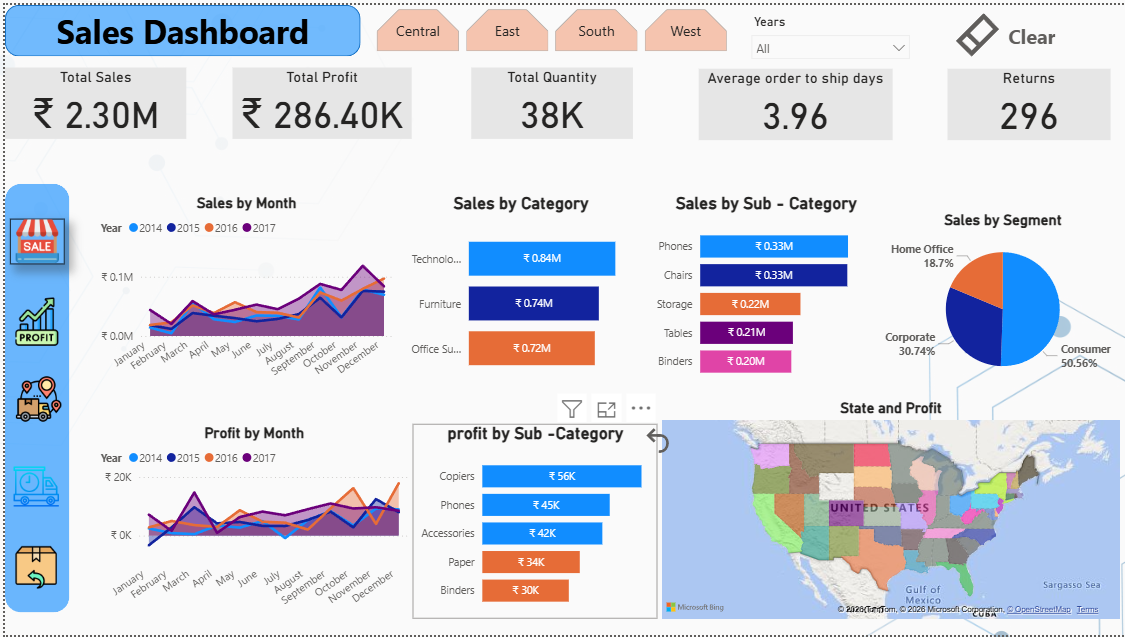

Layout of this report page (visuals, bound fields, positions):
{"tool":"powerbi","page":{"name":"Sales Dashboard","canvas":[1280,720],"ordinal":0},"visuals":[{"type":"pieChart","title":"Sales by Segment","fields":{"Category":["Orders.Segment"],"Y":["Sum(Orders.Sales)"]},"box":[1003.8,235,272.5,205],"z":0},{"type":"barChart","title":"Sales by Category","fields":{"Category":["Orders.Category"],"Series":["Orders.Category"],"Y":["Sum(Orders.Sales)"]},"box":[443.8,216.2,291.2,223.8],"z":1000},{"type":"barChart","title":"Sales by Sub - Category","fields":{"Category":["Orders.Sub-Category"],"Series":["Orders.Sub-Category"],"Y":["Sum(Orders.Sales)"]},"box":[735,216.2,268.8,223.8],"z":2000},{"type":"barChart","title":"profit by Sub -Category","fields":{"Category":["Orders.Sub-Category"],"Series":["Orders.Category"],"Y":["Sum(Orders.Profit)"]},"box":[465,478.8,281.2,222.5],"z":3000},{"type":"areaChart","title":"Sales by Month","fields":{"Category":["Orders.Order Date.Variation.Date Hierarchy.Month"],"Series":["Orders.Order Date.Variation.Date Hierarchy.Year"],"Y":["Sum(Orders.Sales)"]},"box":[103.8,216.2,343.8,223.8],"z":4000},{"type":"areaChart","title":"Profit by Month","fields":{"Category":["Orders.Order Date.Variation.Date Hierarchy.Month"],"Series":["Orders.Order Date.Variation.Date Hierarchy.Year"],"Y":["Sum(Orders.Profit)"]},"box":[103.8,478.8,361.2,222.5],"z":5000},{"type":"filledMap","fields":{"Category":["Orders.State"],"Series":["Orders.Profit"]},"box":[746.2,450,533.8,257.5],"z":6000},{"type":"card","title":"Total Sales","fields":{"Values":["Sum(Orders.Sales)"]},"box":[0,71.2,207.5,81.2],"z":7000},{"type":"card","title":"Total Profit","fields":{"Values":["Sum(Orders.Profit)"]},"box":[260,71.2,205,81.2],"z":8000},{"type":"card","title":"Total Quantity","fields":{"Values":["Sum(Orders.Quantity)"]},"box":[532.5,71.2,185,81.2],"z":9000},{"type":"card","title":"Returns","fields":{"Values":["CountNonNull(Return_data.Order ID)"]},"box":[1077.5,72.5,186.2,81.2],"z":10000},{"type":"card","title":"Average order to ship days","fields":{"Values":["Avg(Orders.Order to shipment time )"]},"box":[792.5,72.5,221.2,81.2],"z":11000},{"type":"advancedSlicerVisual","fields":{"Values":["Orders.Region"]},"box":[420,0,410,58.8],"z":12000},{"type":"slicer","fields":{"Values":["Orders.Order Date.Variation.Date Hierarchy.Year"]},"box":[842.5,5,201.2,57.5],"z":13000},{"type":"shape","box":[0,0,406.2,58.8],"z":14000},{"type":"actionButton","box":[1082.5,5,181.2,57.5],"z":15000},{"type":"shape","box":[0,203.8,73.8,490],"z":17000,"group":"g1"},{"type":"actionButton","box":[726.7,478.3,39.3,38.1],"z":18000},{"type":"image","box":[6.2,243.6,62.5,51.9],"z":19000,"group":"g1"},{"type":"image","box":[7.5,334.1,58.8,55.5],"z":20000,"group":"g1"},{"type":"image","box":[2.5,423.5,71.2,51.9],"z":21000,"group":"g1"},{"type":"image","box":[6.2,523.6,60,51.9],"z":22000,"group":"g1"},{"type":"image","box":[10,616.6,51.2,51.9],"z":23000,"group":"g1"},{"type":"group","id":"g1","title":"Group 1","box":[0,203.8,73.8,490],"z":23001}]}

Visuals, with their boxes in screenshot pixels (x1, y1, x2, y2), scaled from the page's 1280x720 canvas onto the 1125x637 screenshot:
"Sales by Segment" pieChart: <bbox>882, 208, 1122, 389</bbox>
"Sales by Category" barChart: <bbox>390, 191, 646, 389</bbox>
"Sales by Sub - Category" barChart: <bbox>646, 191, 882, 389</bbox>
"profit by Sub -Category" barChart: <bbox>409, 424, 656, 620</bbox>
"Sales by Month" areaChart: <bbox>91, 191, 393, 389</bbox>
"Profit by Month" areaChart: <bbox>91, 424, 409, 620</bbox>
filledMap - Orders.State x Orders.Profit: <bbox>656, 398, 1124, 626</bbox>
"Total Sales" card: <bbox>0, 63, 182, 135</bbox>
"Total Profit" card: <bbox>229, 63, 409, 135</bbox>
"Total Quantity" card: <bbox>468, 63, 631, 135</bbox>
"Returns" card: <bbox>947, 64, 1111, 136</bbox>
"Average order to ship days" card: <bbox>697, 64, 891, 136</bbox>
advancedSlicerVisual - Orders.Region: <bbox>369, 0, 729, 52</bbox>
slicer - Orders.Order Date.Variation.Date Hierarchy.Year: <bbox>740, 4, 917, 55</bbox>
shape: <bbox>0, 0, 357, 52</bbox>
actionButton: <bbox>951, 4, 1111, 55</bbox>
shape: <bbox>0, 180, 65, 614</bbox>
actionButton: <bbox>639, 423, 673, 457</bbox>
image: <bbox>5, 216, 60, 261</bbox>
image: <bbox>7, 296, 58, 345</bbox>
image: <bbox>2, 375, 65, 421</bbox>
image: <bbox>5, 463, 58, 509</bbox>
image: <bbox>9, 546, 54, 591</bbox>
"Group 1" group: <bbox>0, 180, 65, 614</bbox>
